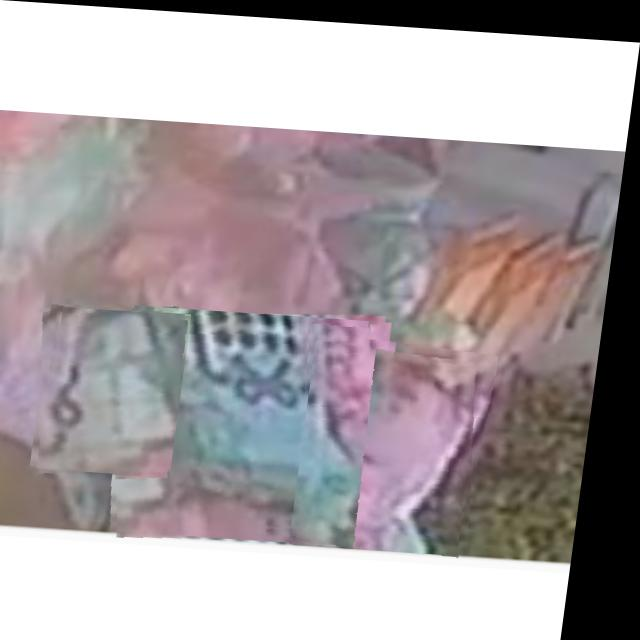general_trashbag: (136, 307, 381, 526), (51, 307, 187, 469)
other_trashbag: (305, 343, 488, 546)
